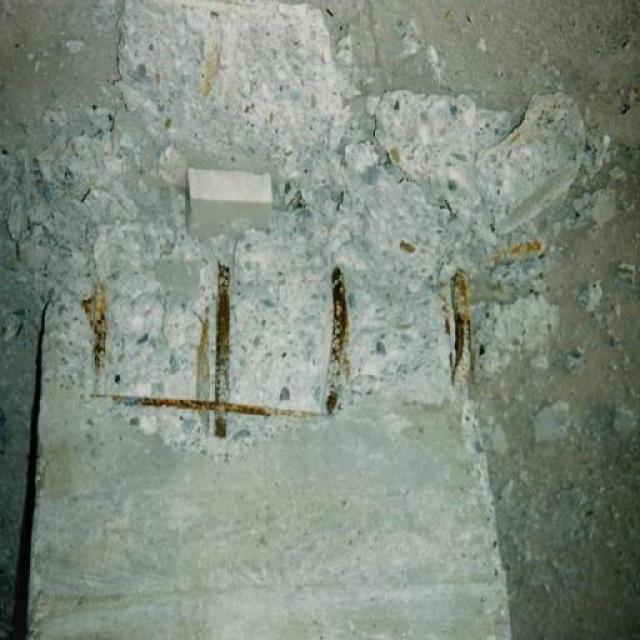D0w0: (0, 0, 625, 614)
